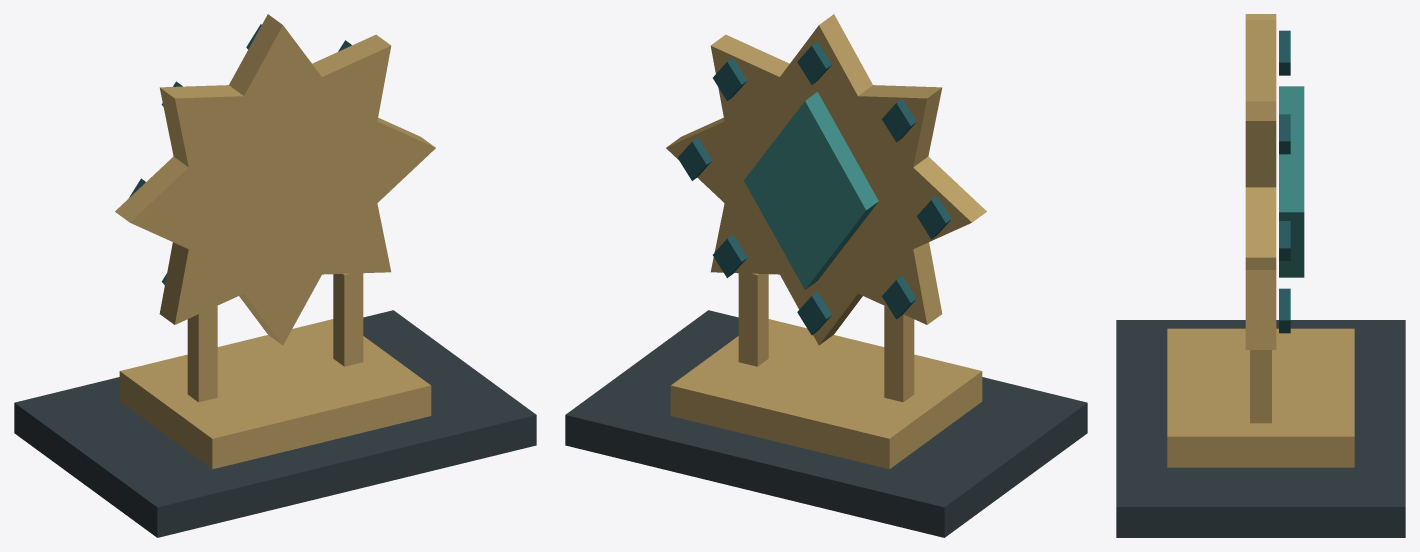
Rendered from VIC_L10_PREMIUM_INSIGNIA_Roblox.fbx.
3 renders of one model, left to right at view 1: azimuth 30°, elevation 25°; view 2: azimuth 150°, elevation 25°; view 3: azimuth 270°, elevation 25°, orthographic.
Parts seen in each view (by area): view 1: VIC_L10_PREMIUM_INSIGNIA__Brass, VIC_L10_PREMIUM_INSIGNIA__Charcoal; view 2: VIC_L10_PREMIUM_INSIGNIA__Brass, VIC_L10_PREMIUM_INSIGNIA__Charcoal, VIC_L10_PREMIUM_INSIGNIA__Gem, VIC_L10_PREMIUM_INSIGNIA__Teal; view 3: VIC_L10_PREMIUM_INSIGNIA__Charcoal, VIC_L10_PREMIUM_INSIGNIA__Brass, VIC_L10_PREMIUM_INSIGNIA__Gem, VIC_L10_PREMIUM_INSIGNIA__Teal.
Boxes of the visible parts, x1,y1,x2,y2 form: VIC_L10_PREMIUM_INSIGNIA__Brass: (115,14,435,469); VIC_L10_PREMIUM_INSIGNIA__Charcoal: (14,310,536,537); VIC_L10_PREMIUM_INSIGNIA__Brass: (666,14,986,469); VIC_L10_PREMIUM_INSIGNIA__Charcoal: (565,310,1087,537); VIC_L10_PREMIUM_INSIGNIA__Gem: (744,92,878,289); VIC_L10_PREMIUM_INSIGNIA__Teal: (678,41,951,335); VIC_L10_PREMIUM_INSIGNIA__Charcoal: (1116,320,1405,537); VIC_L10_PREMIUM_INSIGNIA__Brass: (1167,14,1354,467); VIC_L10_PREMIUM_INSIGNIA__Gem: (1279,86,1304,277); VIC_L10_PREMIUM_INSIGNIA__Teal: (1279,30,1290,333).
Bounding box in the file's own units: 2.6 × 2.75 × 1.7.
